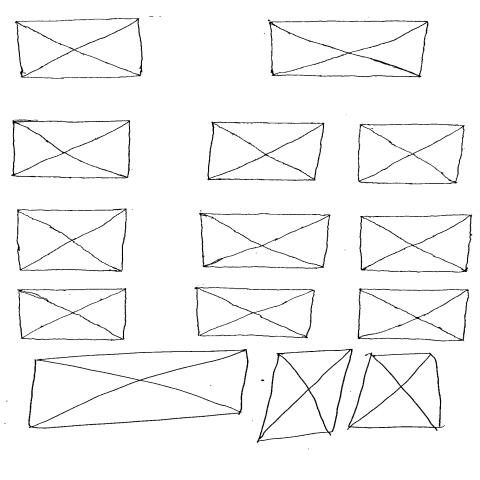Image: (30, 350, 251, 430), (269, 20, 430, 78), (257, 349, 354, 444), (15, 17, 144, 80), (200, 214, 331, 270), (349, 354, 445, 430), (12, 121, 133, 181), (206, 122, 326, 182), (17, 209, 128, 273), (356, 124, 467, 186), (360, 215, 474, 274), (196, 287, 316, 339), (17, 288, 128, 342), (357, 290, 470, 343)
